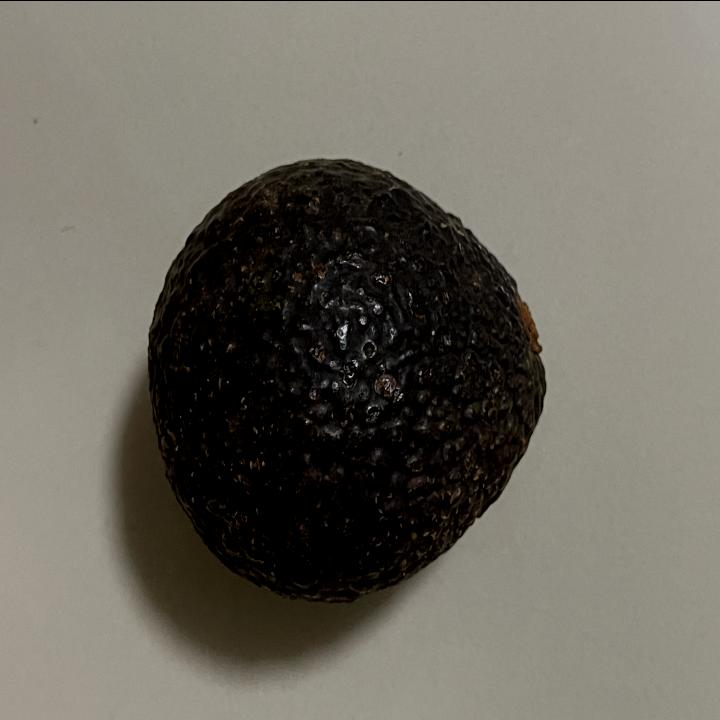Level1: (138, 136, 558, 613)
